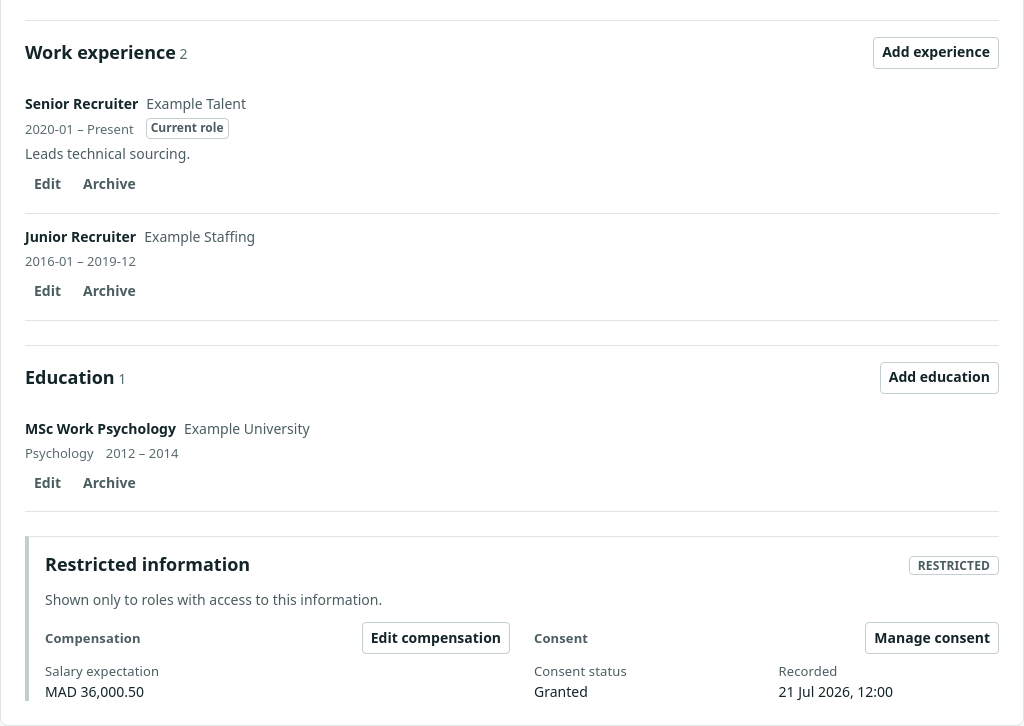
Compensation form › cancels without saving and returns focus to the action
(page scrolled)
Click the button "Edit compensation" at (436, 638), box [362, 622, 510, 654]
(page scrolled)
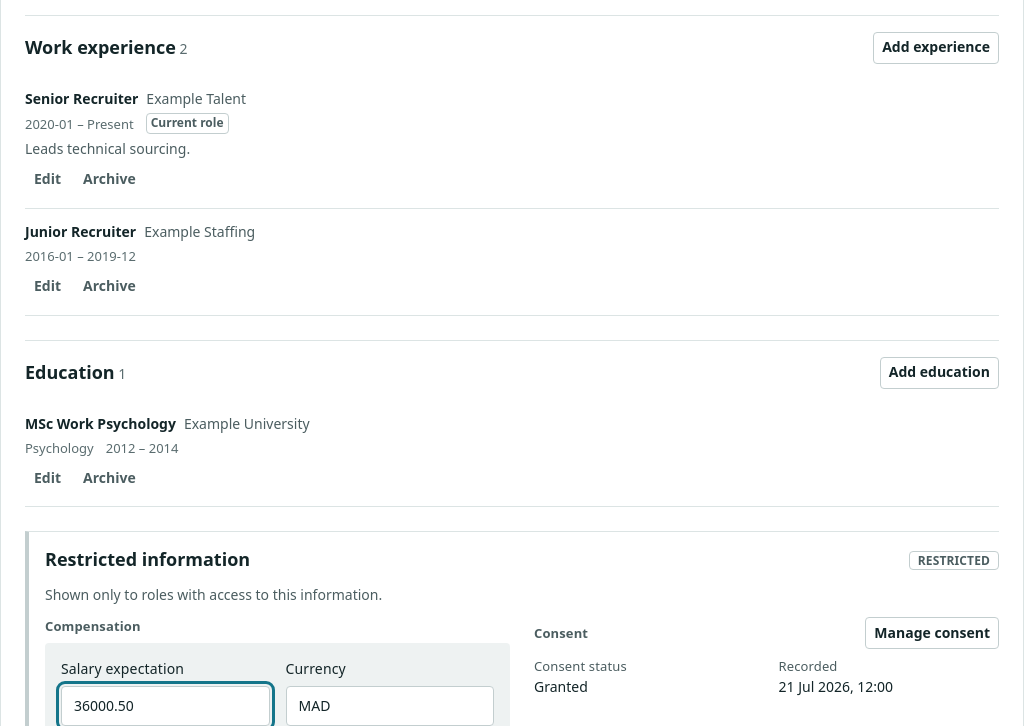
Replace the text in the field labelled "Salary expectation" with "1" at (165, 706), box [61, 686, 270, 725]
(page scrolled)
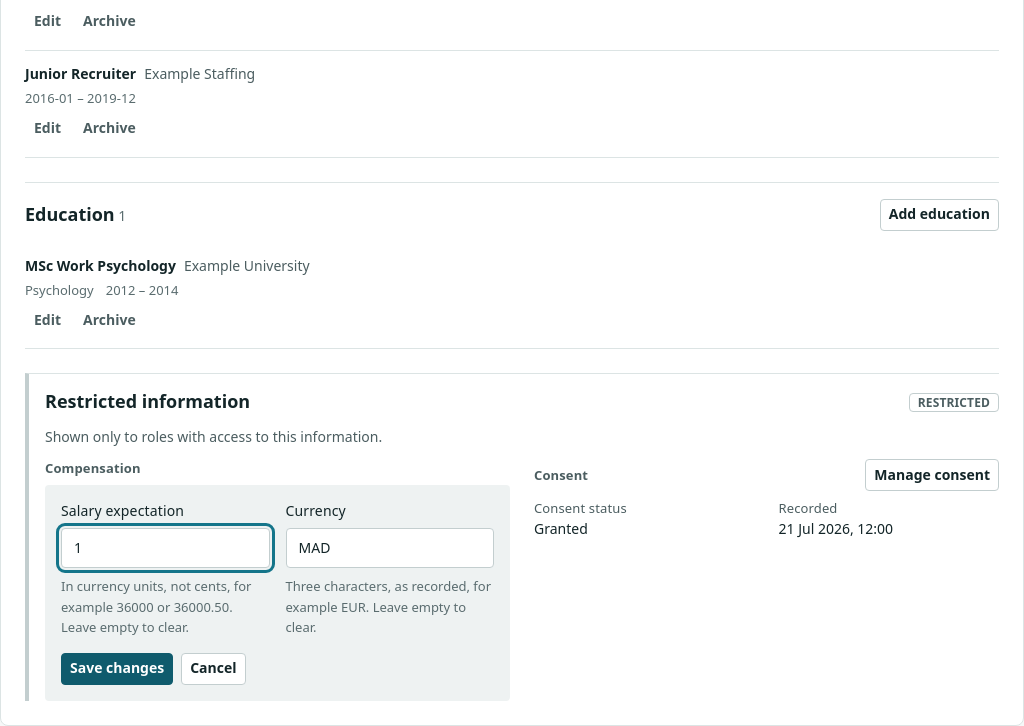
Click the button "Cancel" at (213, 669), box [181, 653, 246, 685]
(page scrolled)
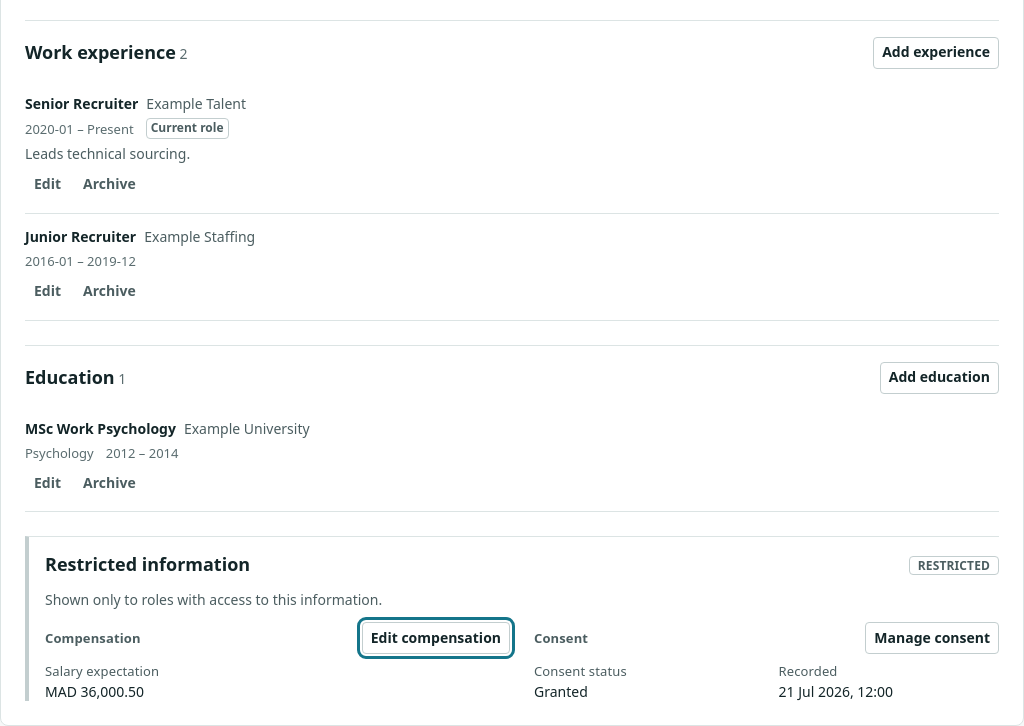
Check: the text "MAD 36,000.50" is shown, box [45, 682, 144, 701]
